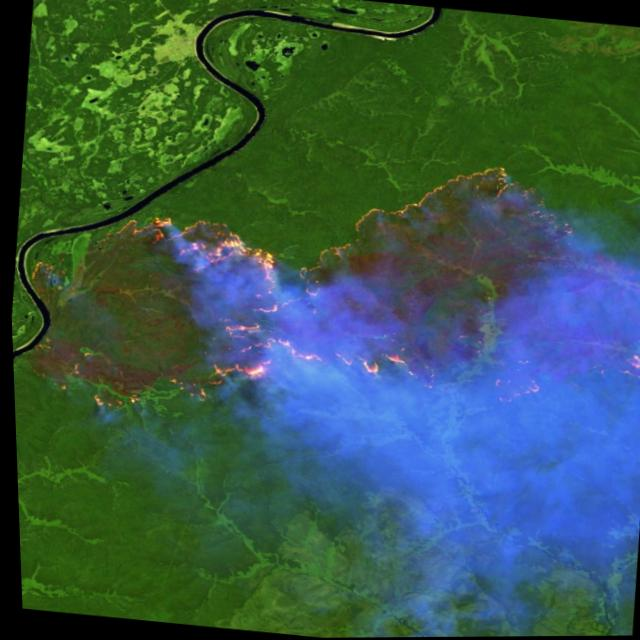fire: (3, 102, 640, 477)
